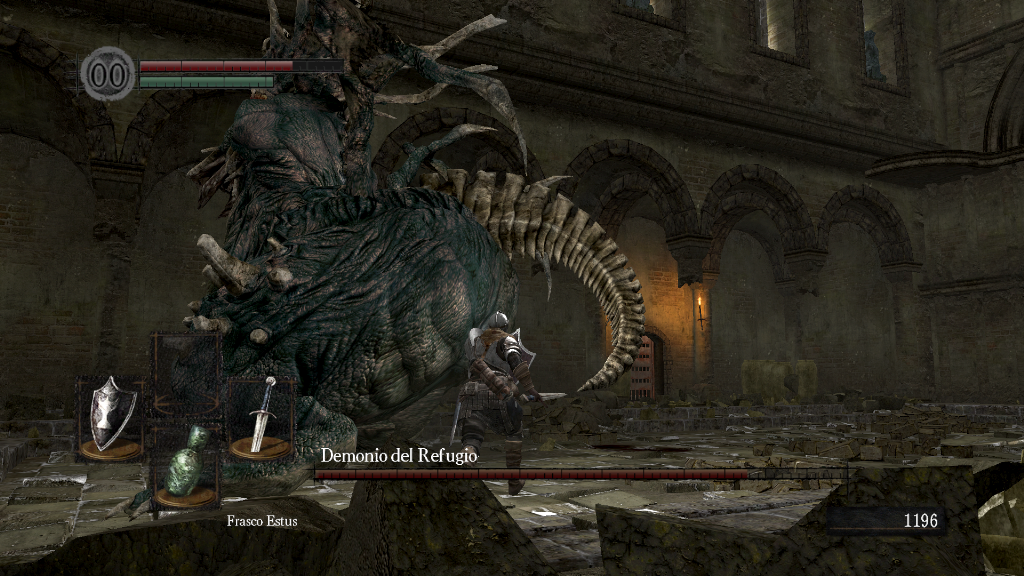asylumDemon: (136, 1, 648, 507)
bossHP: (314, 469, 847, 479)
health: (138, 58, 343, 71)
humanity: (80, 45, 136, 102)
player: (456, 311, 570, 498)
souls: (825, 506, 945, 536)
stamina: (138, 74, 274, 88)
